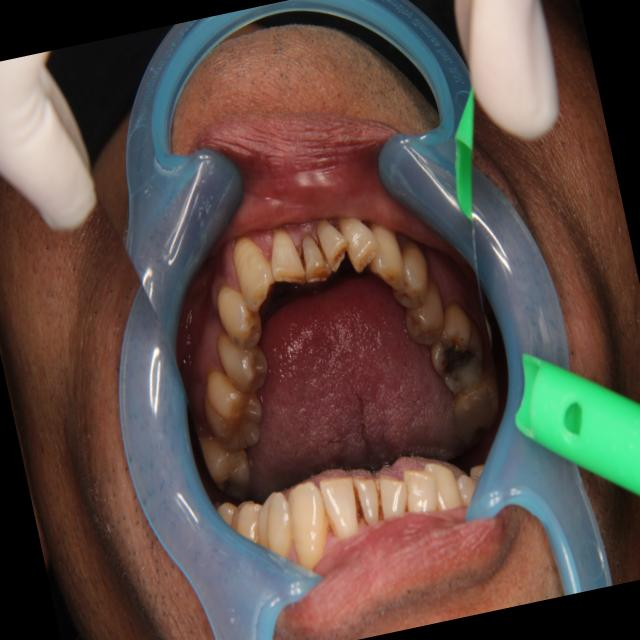tooth: (188, 352, 272, 461), (417, 295, 496, 401), (439, 364, 514, 455), (195, 421, 263, 512), (224, 226, 286, 319), (208, 319, 276, 403), (206, 271, 270, 357), (376, 233, 439, 316), (327, 196, 387, 282), (395, 273, 456, 354), (359, 215, 411, 298), (308, 206, 356, 278), (263, 223, 309, 296), (291, 224, 336, 293)
